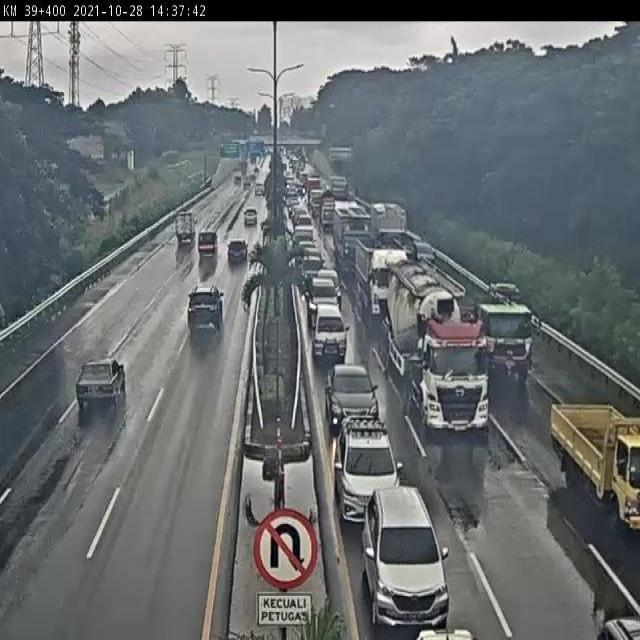big truck: (376, 243, 495, 473), (473, 272, 549, 384), (348, 230, 415, 326), (332, 200, 371, 272)
car: (353, 487, 456, 625), (331, 422, 405, 514), (316, 356, 383, 428), (76, 358, 128, 413), (188, 275, 223, 332), (310, 305, 348, 356), (308, 276, 334, 316), (302, 238, 328, 270), (196, 227, 220, 260), (228, 237, 246, 268)
small truck: (545, 393, 640, 527), (405, 348, 490, 479), (169, 203, 197, 249)
